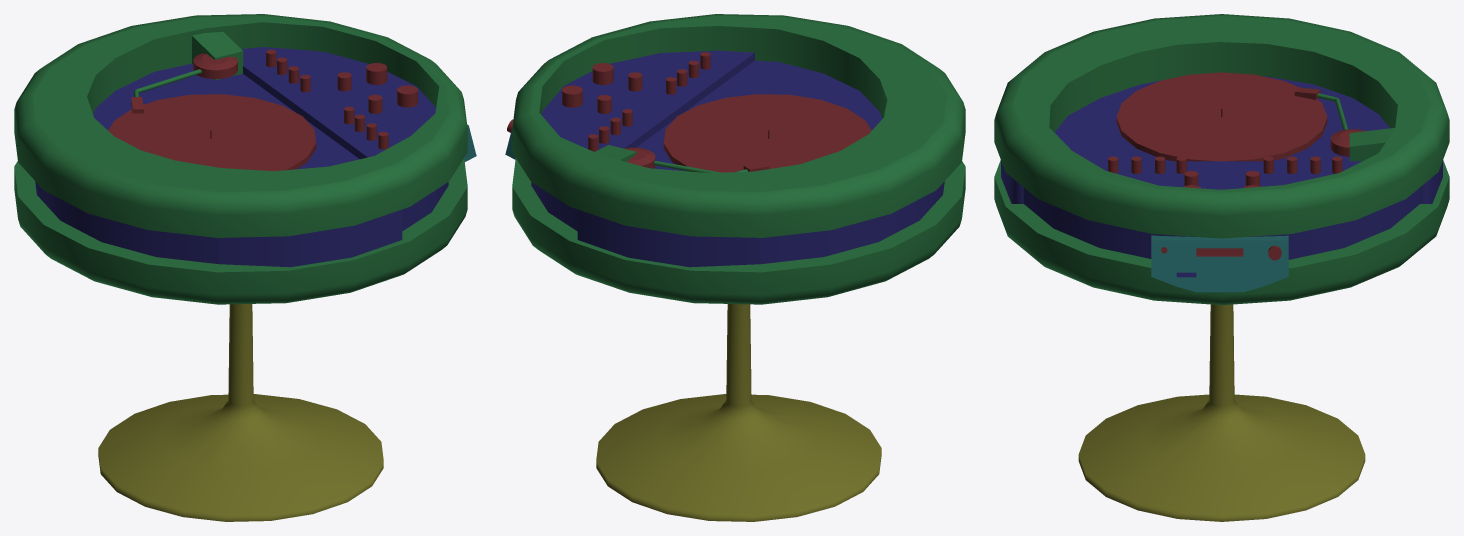
File: SM_TourneDisque.fbx
3 views of the same model, side by side, from view 1: azimuth 30°, elevation 25°; view 2: azimuth 150°, elevation 25°; view 3: azimuth 270°, elevation 25° (orthographic).
Parts seen in each view (by area): view 1: pCube5; view 2: pCube5; view 3: pCube5.
Part boxes in pixels (x1,y1,x2,y2): pCube5: (14,14,476,521); pCube5: (505,14,965,521); pCube5: (994,14,1449,521).
Bounding box in the file's own units: 8.74 × 7.45 × 8.61.
